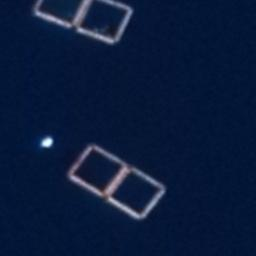square_solid: (61, 139, 135, 204), (100, 163, 170, 223), (71, 1, 138, 48), (29, 1, 96, 32)
